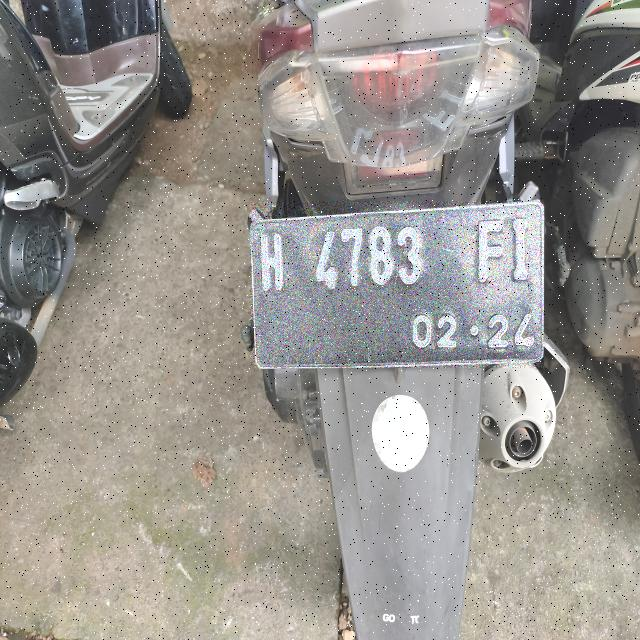plate: (251, 202, 543, 367)
